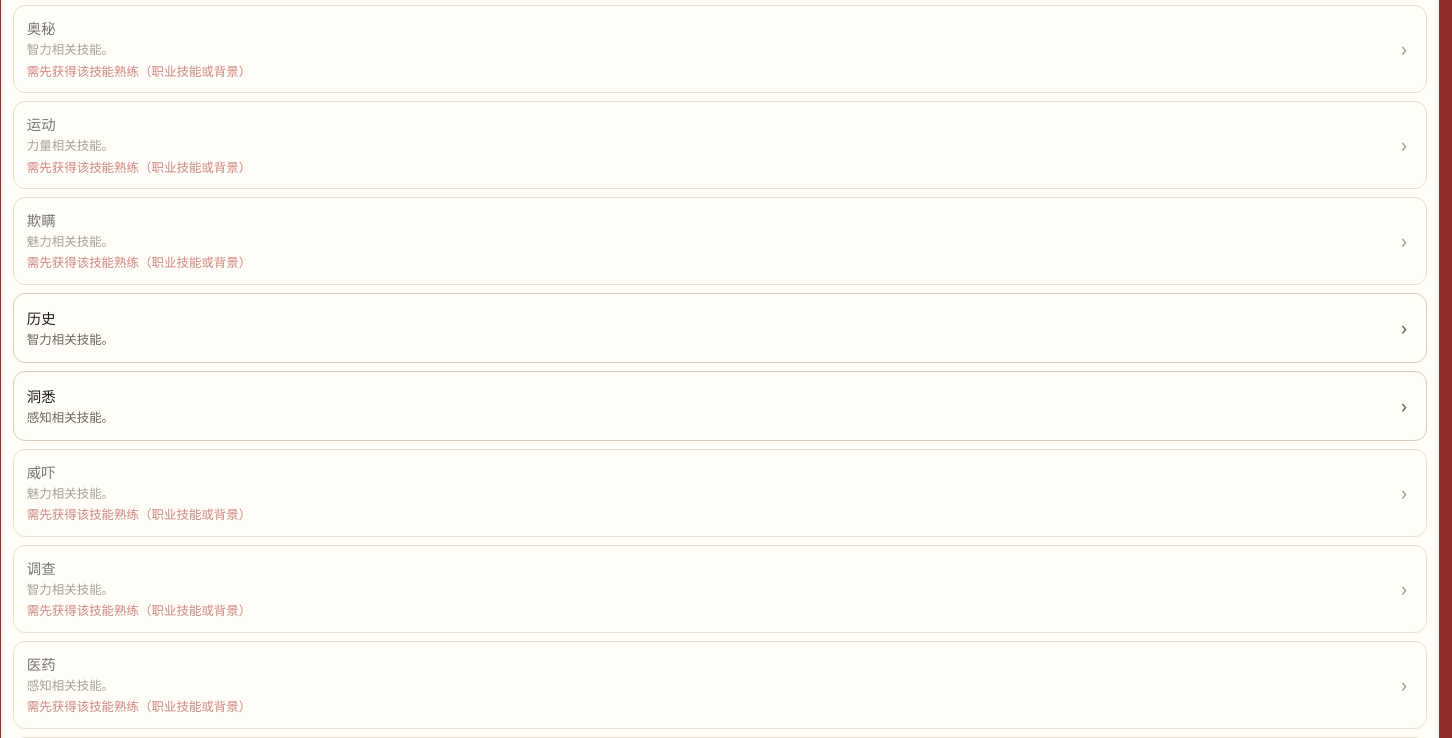
TimelineStep 静态选项可展开 › 技能候选卡默认折叠，可展开查看详情与来源
(page scrolled)
Expected: the element with class "expandable-option-card" showing "洞悉 感知相关技能。 ›" is shown, [13,371,1427,441]
Click the 5th button with class "expandable-option-card__arrow" at (1404, 406), box [1382,372,1426,440]
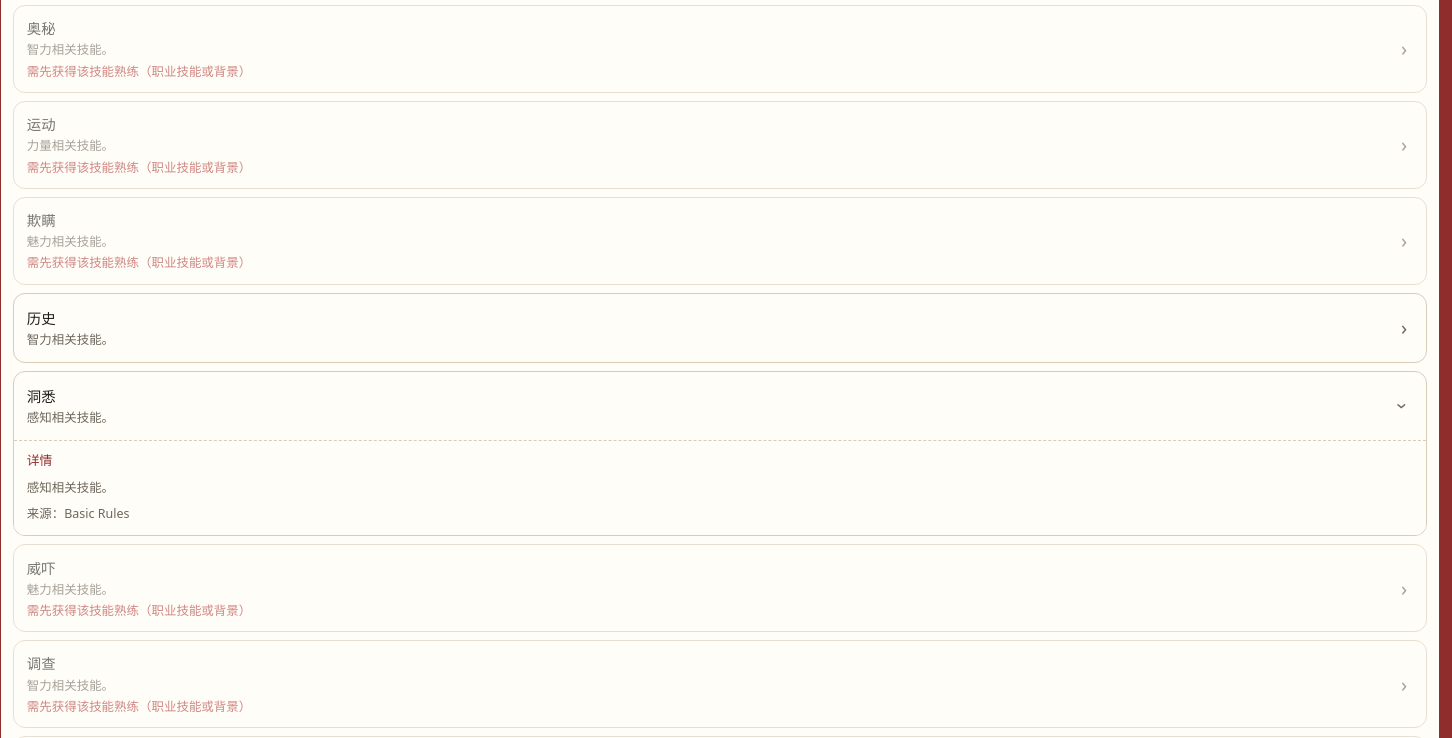
Result: the element with class "expandable-option-card__growth" is shown at [14,440,1426,535]
Result: the element with class "expandable-option-card__growth" shows "感知相关技能" at [27,479,114,496]
Result: the element with class "expandable-option-card__growth" shows "来源：Basic Rules" at [27,505,129,522]
